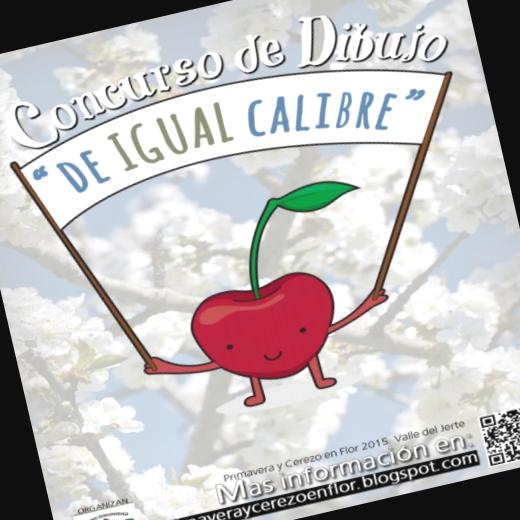Apple: (109, 169, 405, 426)
